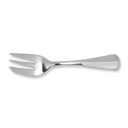Fork: (7, 44, 121, 85)
